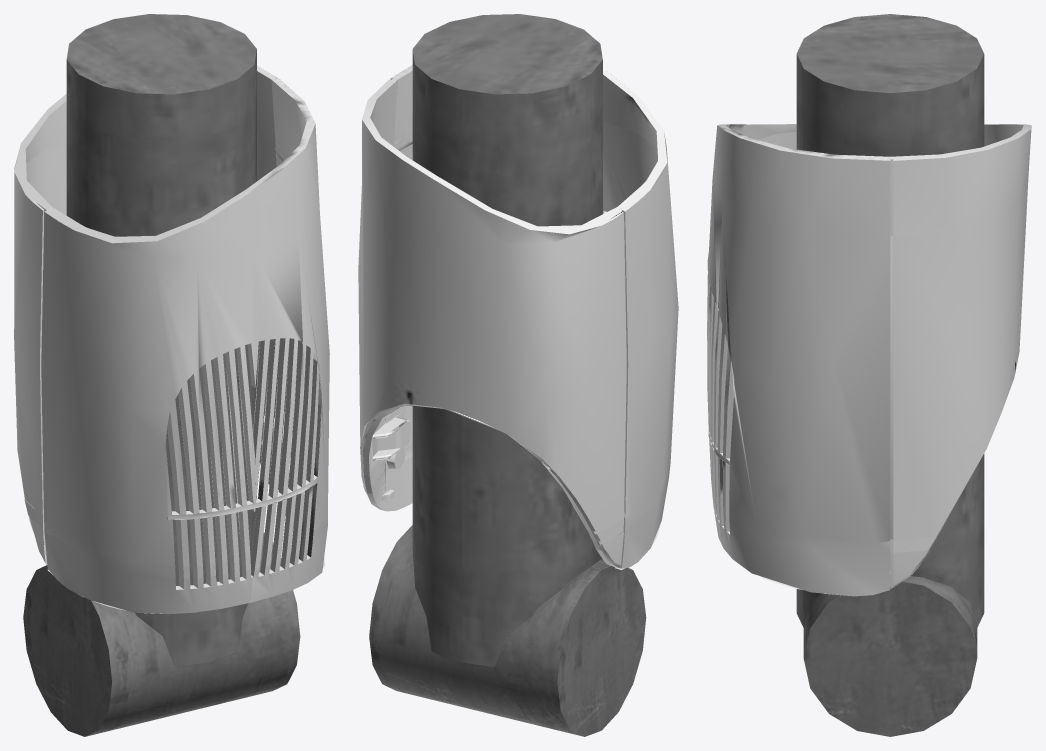
Rendered from icub_l_thigh.dae.
The picture shows the model from 3 angles, left to right: view 1: azimuth 30°, elevation 25°; view 2: azimuth 150°, elevation 25°; view 3: azimuth 270°, elevation 25°; orthographic projection. The views are drawn at different scales.
Parts seen in each view (by area): view 1: l_upperleg_mesh_001; view 2: l_upperleg_mesh_001; view 3: l_upperleg_mesh_001.
Boxes of the visible parts, x1,y1,x2,y2 form: l_upperleg_mesh_001: (14, 14, 329, 736); l_upperleg_mesh_001: (358, 14, 678, 736); l_upperleg_mesh_001: (707, 14, 1031, 736).
Size of the model in its own units: 0.1029 by 0.1178 by 0.2555.
1 material, 1 textured.
